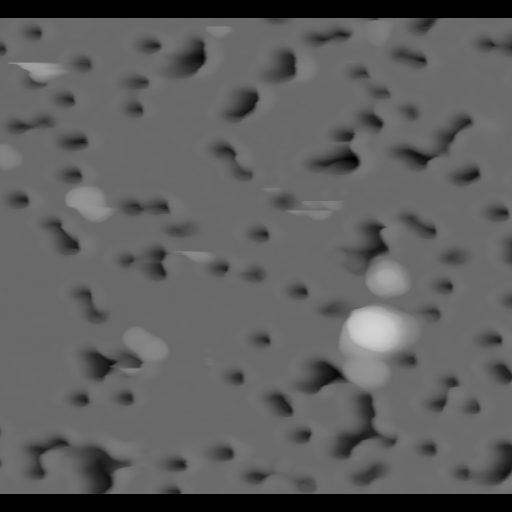Hole: (0, 414, 511, 493), (382, 106, 482, 176), (339, 59, 423, 136), (143, 188, 210, 232), (212, 74, 268, 125), (62, 277, 116, 329), (104, 238, 172, 278), (48, 126, 94, 184), (256, 36, 302, 90), (24, 216, 82, 257), (108, 70, 156, 119), (210, 132, 256, 183), (302, 141, 369, 176), (162, 32, 207, 83), (286, 352, 340, 393), (351, 212, 398, 255), (69, 340, 115, 382), (0, 105, 64, 134), (325, 231, 367, 275), (399, 207, 445, 244), (294, 23, 352, 52), (470, 28, 511, 63), (324, 111, 360, 147), (211, 358, 252, 389), (238, 218, 280, 247), (386, 46, 434, 71), (128, 26, 166, 57), (441, 163, 488, 188), (259, 383, 294, 414), (480, 354, 511, 389), (276, 269, 312, 299), (0, 186, 38, 214), (477, 198, 511, 228), (235, 256, 268, 286), (438, 240, 471, 269), (473, 322, 508, 348), (426, 272, 462, 296), (245, 321, 275, 349), (494, 233, 511, 279), (406, 17, 443, 37), (16, 22, 48, 44), (49, 87, 80, 108), (268, 189, 298, 210), (109, 388, 139, 408), (457, 394, 485, 414), (421, 392, 450, 411), (437, 370, 466, 387), (490, 288, 511, 310), (124, 194, 141, 219), (65, 388, 87, 407), (213, 256, 229, 279), (0, 40, 15, 61), (509, 161, 511, 199)
Particle: (330, 300, 429, 397), (360, 251, 421, 299), (120, 322, 170, 360), (0, 140, 33, 176), (357, 20, 393, 46)
Smear: (56, 184, 124, 222), (1, 57, 85, 83), (294, 189, 353, 209), (173, 243, 219, 266), (282, 206, 339, 218), (202, 20, 233, 39), (260, 180, 282, 194)
